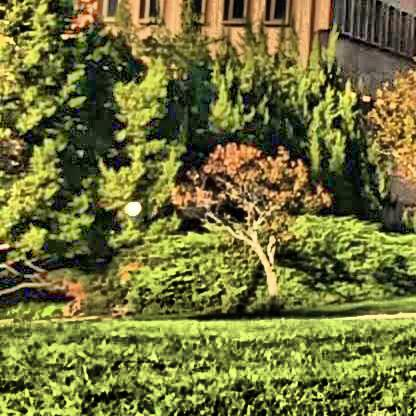golfball: (121, 199, 140, 214)
